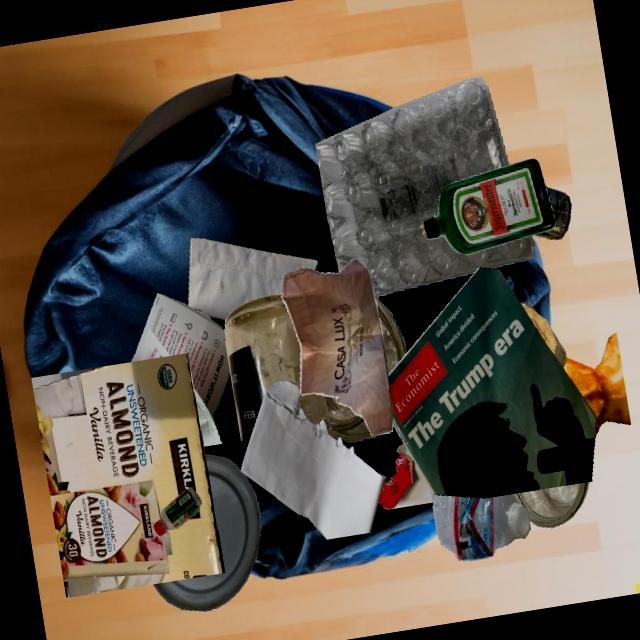biowaste: (563, 332, 631, 438), (521, 304, 556, 354)
cardboard: (31, 353, 225, 598)
glass: (421, 158, 556, 255), (225, 295, 300, 441), (513, 482, 589, 528), (374, 294, 407, 375), (324, 396, 380, 442), (533, 186, 571, 239), (550, 328, 567, 368)
paper: (388, 268, 596, 498), (241, 381, 387, 540), (281, 259, 393, 436), (131, 293, 230, 446), (188, 238, 318, 320), (378, 443, 433, 509)
plastic: (315, 77, 535, 297), (153, 454, 261, 611), (431, 489, 531, 561), (153, 487, 202, 537)
